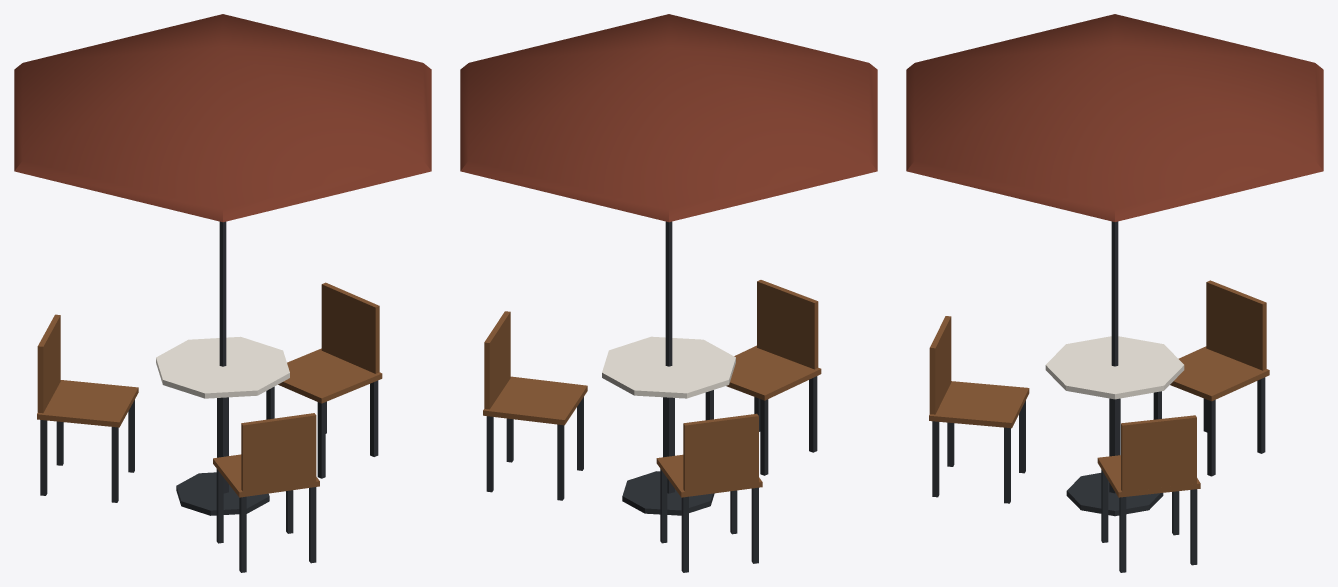
3 views of the same model, side by side, from view 1: azimuth 30°, elevation 25°; view 2: azimuth 150°, elevation 25°; view 3: azimuth 270°, elevation 25° (orthographic).
Parts seen in each view (by area): view 1: terrace.lod1; view 2: terrace.lod1; view 3: terrace.lod1.
Part boxes in pixels (x1=…): terrace.lod1: x1=14, y1=14, x2=431, y2=572; terrace.lod1: x1=460, y1=14, x2=877, y2=572; terrace.lod1: x1=906, y1=14, x2=1323, y2=572.
Size of the model in its own units: 2.5 by 2.57 by 2.16.
